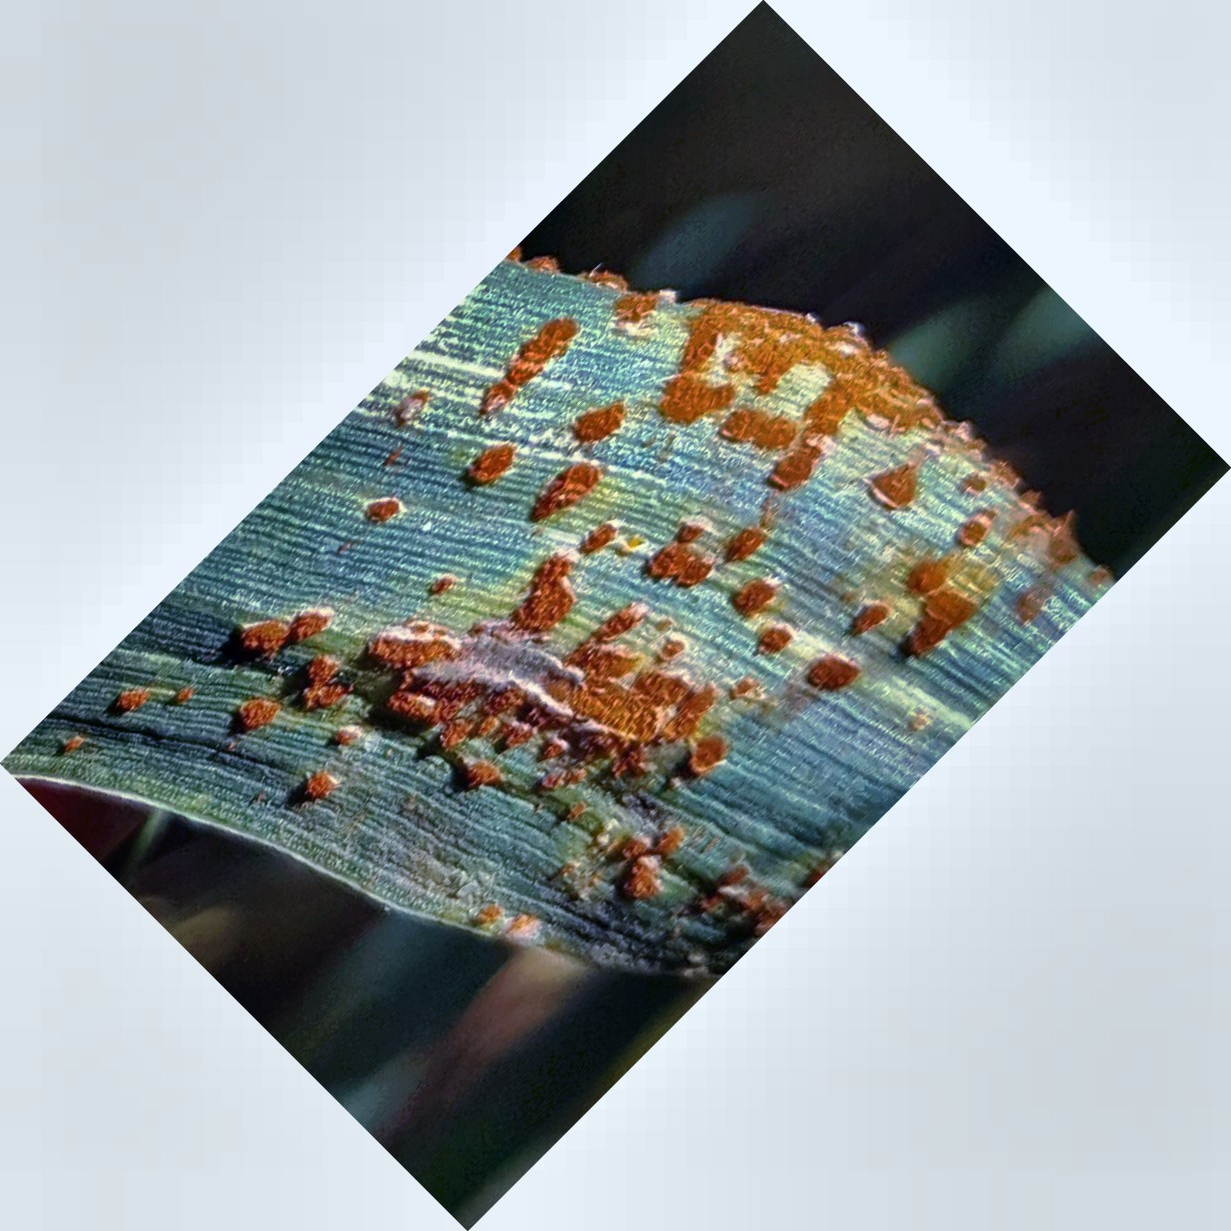Leaf Rust: (188, 240, 1051, 815)
